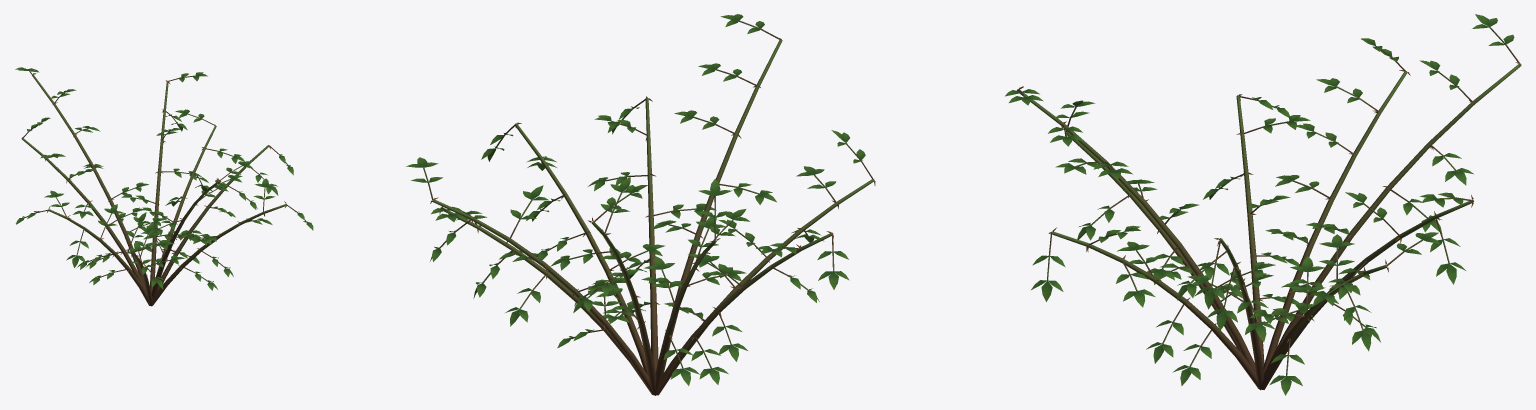
File: rosehip.glb
3 renders of one model, left to right at view 1: azimuth 30°, elevation 25°; view 2: azimuth 150°, elevation 25°; view 3: azimuth 270°, elevation 25°, orthographic. The views are drawn at different scales.
Parts seen in each view (by area): view 1: rosehip; view 2: rosehip; view 3: rosehip.
Boxes of the visible parts, x1,y1,x2,y2 form: rosehip: [15, 67, 313, 306]; rosehip: [406, 14, 875, 395]; rosehip: [1005, 14, 1521, 395].
Bounding box in the file's own units: 1.34 × 0.9978 × 1.43.
1 material, 1 textured.
